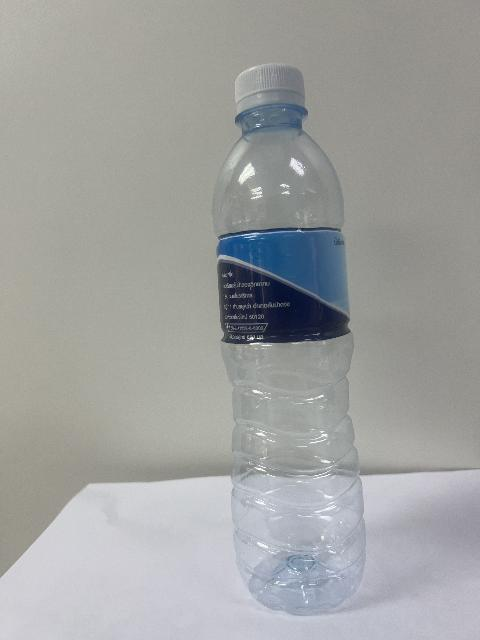bottle: (213, 64, 389, 617)
